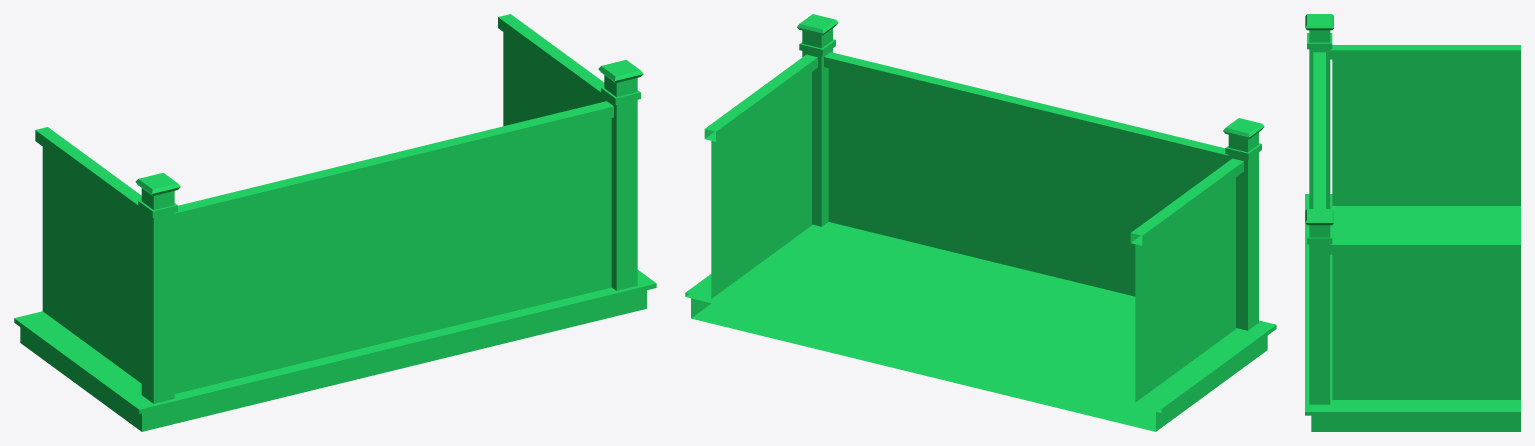
Rendered from SM_wall_veranda.fbx.
The picture shows the model from 3 angles, left to right: view 1: azimuth 30°, elevation 25°; view 2: azimuth 150°, elevation 25°; view 3: azimuth 270°, elevation 25°; orthographic projection. The views are drawn at different scales.
Parts seen in each view (by area): view 1: wall_fence_orna_low.002; view 2: wall_fence_orna_low.002; view 3: wall_fence_orna_low.002.
Part boxes in pixels (x1=…): wall_fence_orna_low.002: x1=14, y1=14, x2=656, y2=431; wall_fence_orna_low.002: x1=685, y1=14, x2=1276, y2=431; wall_fence_orna_low.002: x1=1305, y1=14, x2=1520, y2=431.
Bounding box in the file's own units: 246 × 110 × 103.
